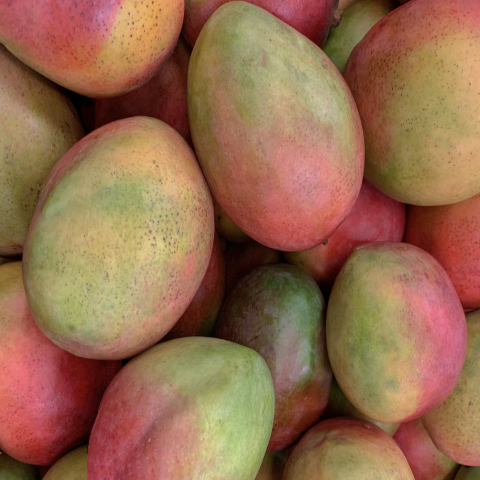mango: (150, 6, 405, 276), (10, 113, 222, 367), (89, 330, 295, 479), (319, 235, 466, 414)
